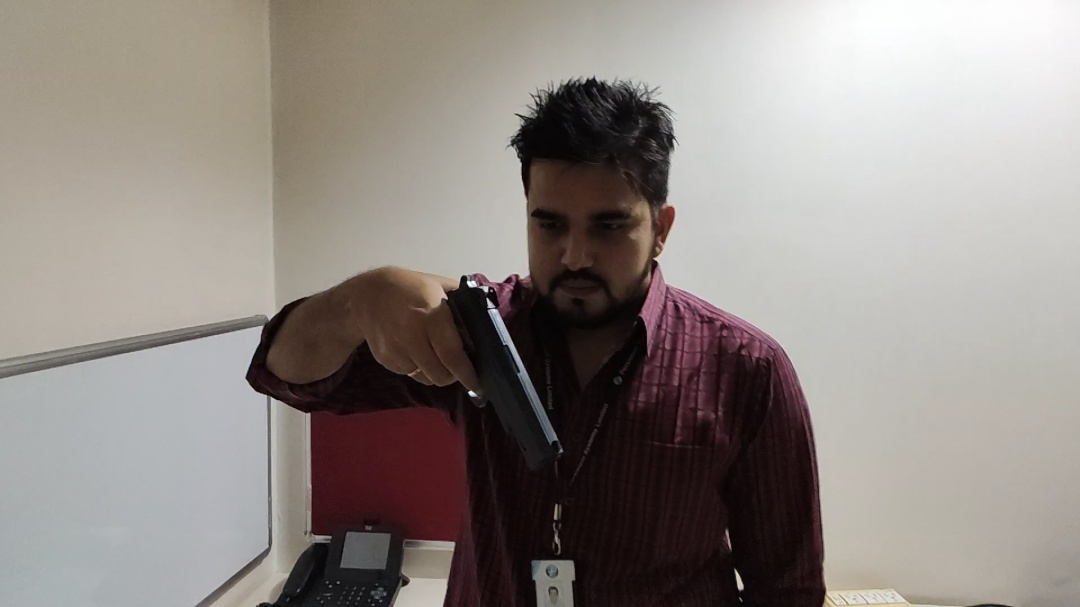gun: (282, 163, 748, 418)
